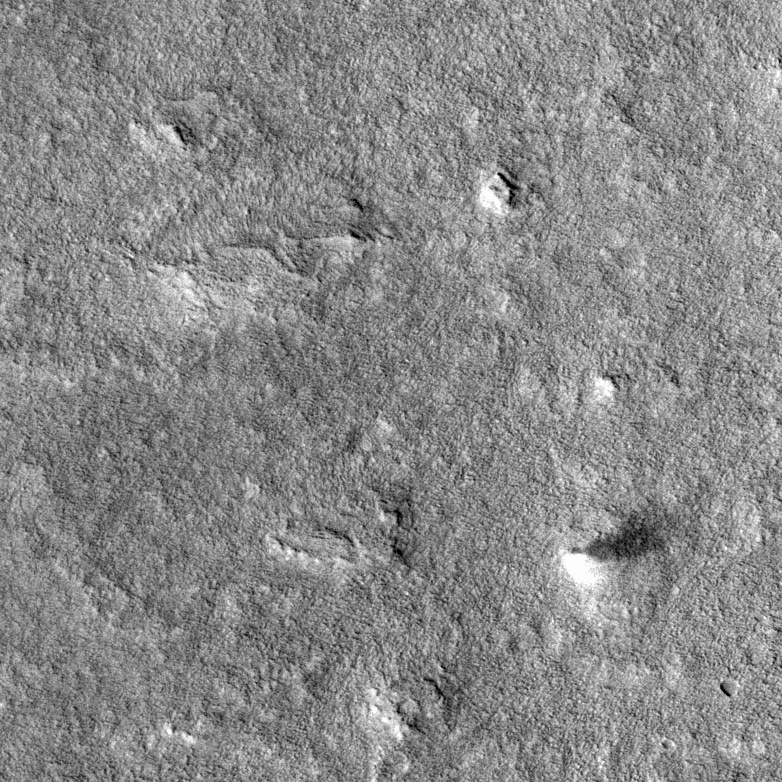dust_devil: (558, 510, 669, 593)
